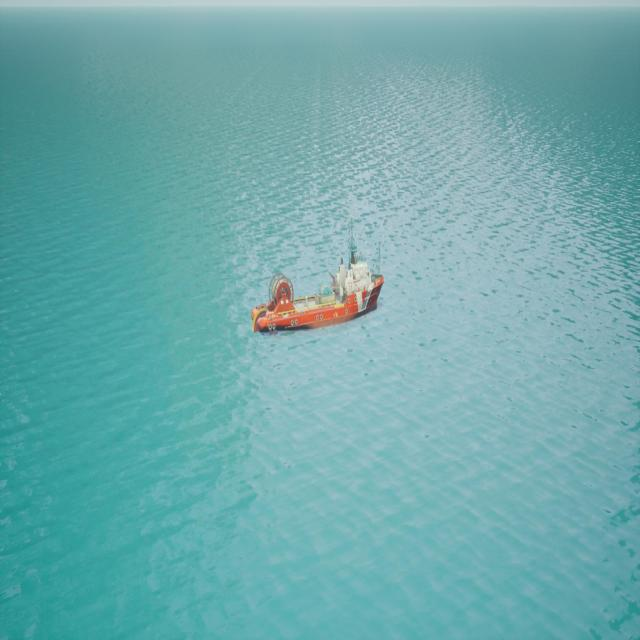tug boat: (253, 231, 385, 339)
